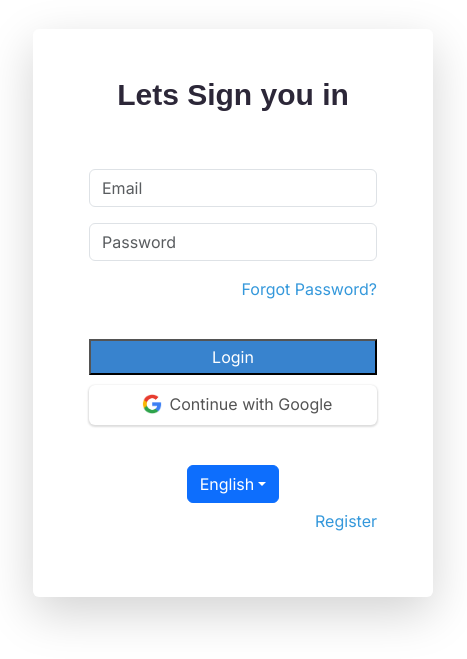
Scenario: Login Component › renders login form and enters invalid email
Note: Fill in the form
Step 1. Type "test" into the field with placeholder "Email" → (233,188), box [89, 169, 377, 207]
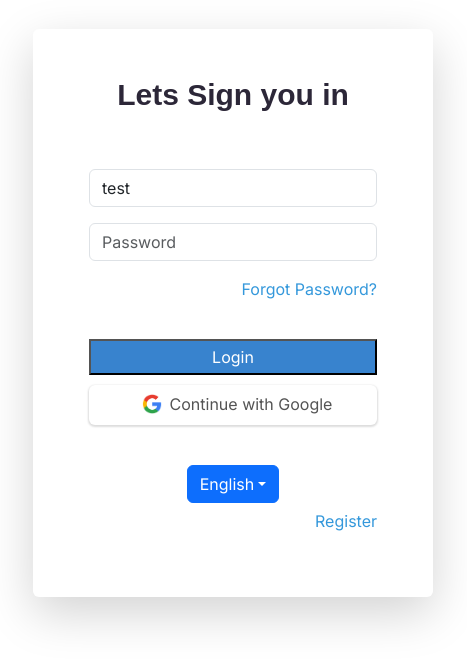
Step 2. Leave the field with placeholder "Email", box [89, 169, 377, 207]
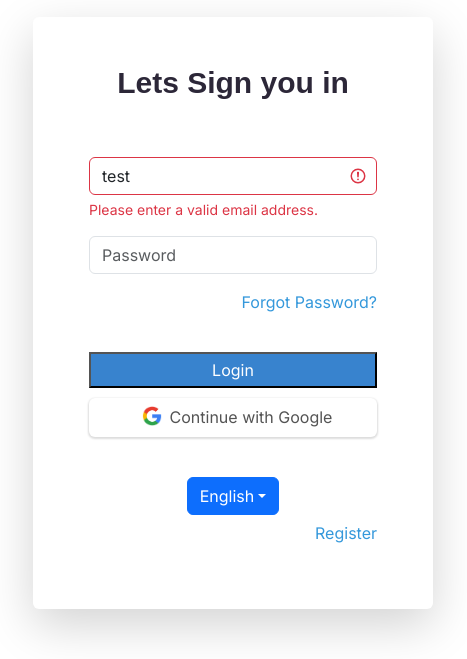
Expected: the text "Please enter a valid email address." is shown, [89, 201, 318, 218]
